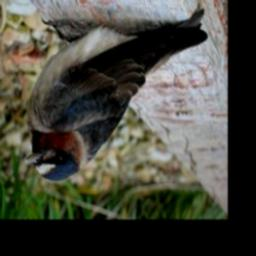Swallow: (19, 5, 211, 186)
